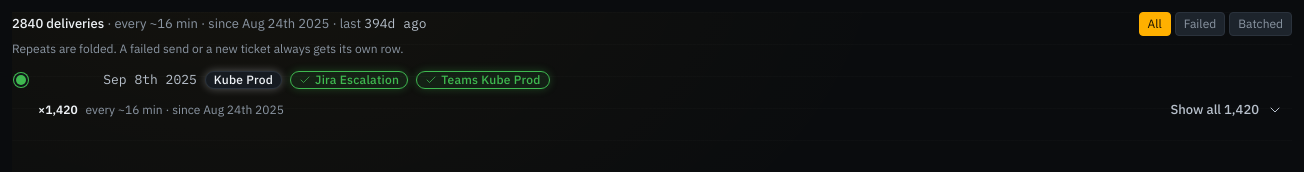
Test case: DeliveryTimeline › runs (alert inspector) › lists raw rows, not runs, under the Failed chip
The image size is (1304, 172).
Expected: the text "×1,420" is shown, [38,101,78,119]
What coordinates should you click on to do the following:
click the button "Failed"
I would click on:
 (1200, 24)
Its box is [1175,12,1225,36].
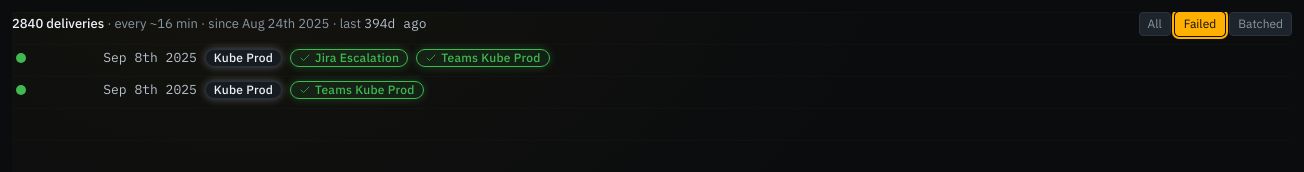
Expected: the text "2840 deliveries" is shown, [12,15,104,32]
Now the text "×1,420" is gone
